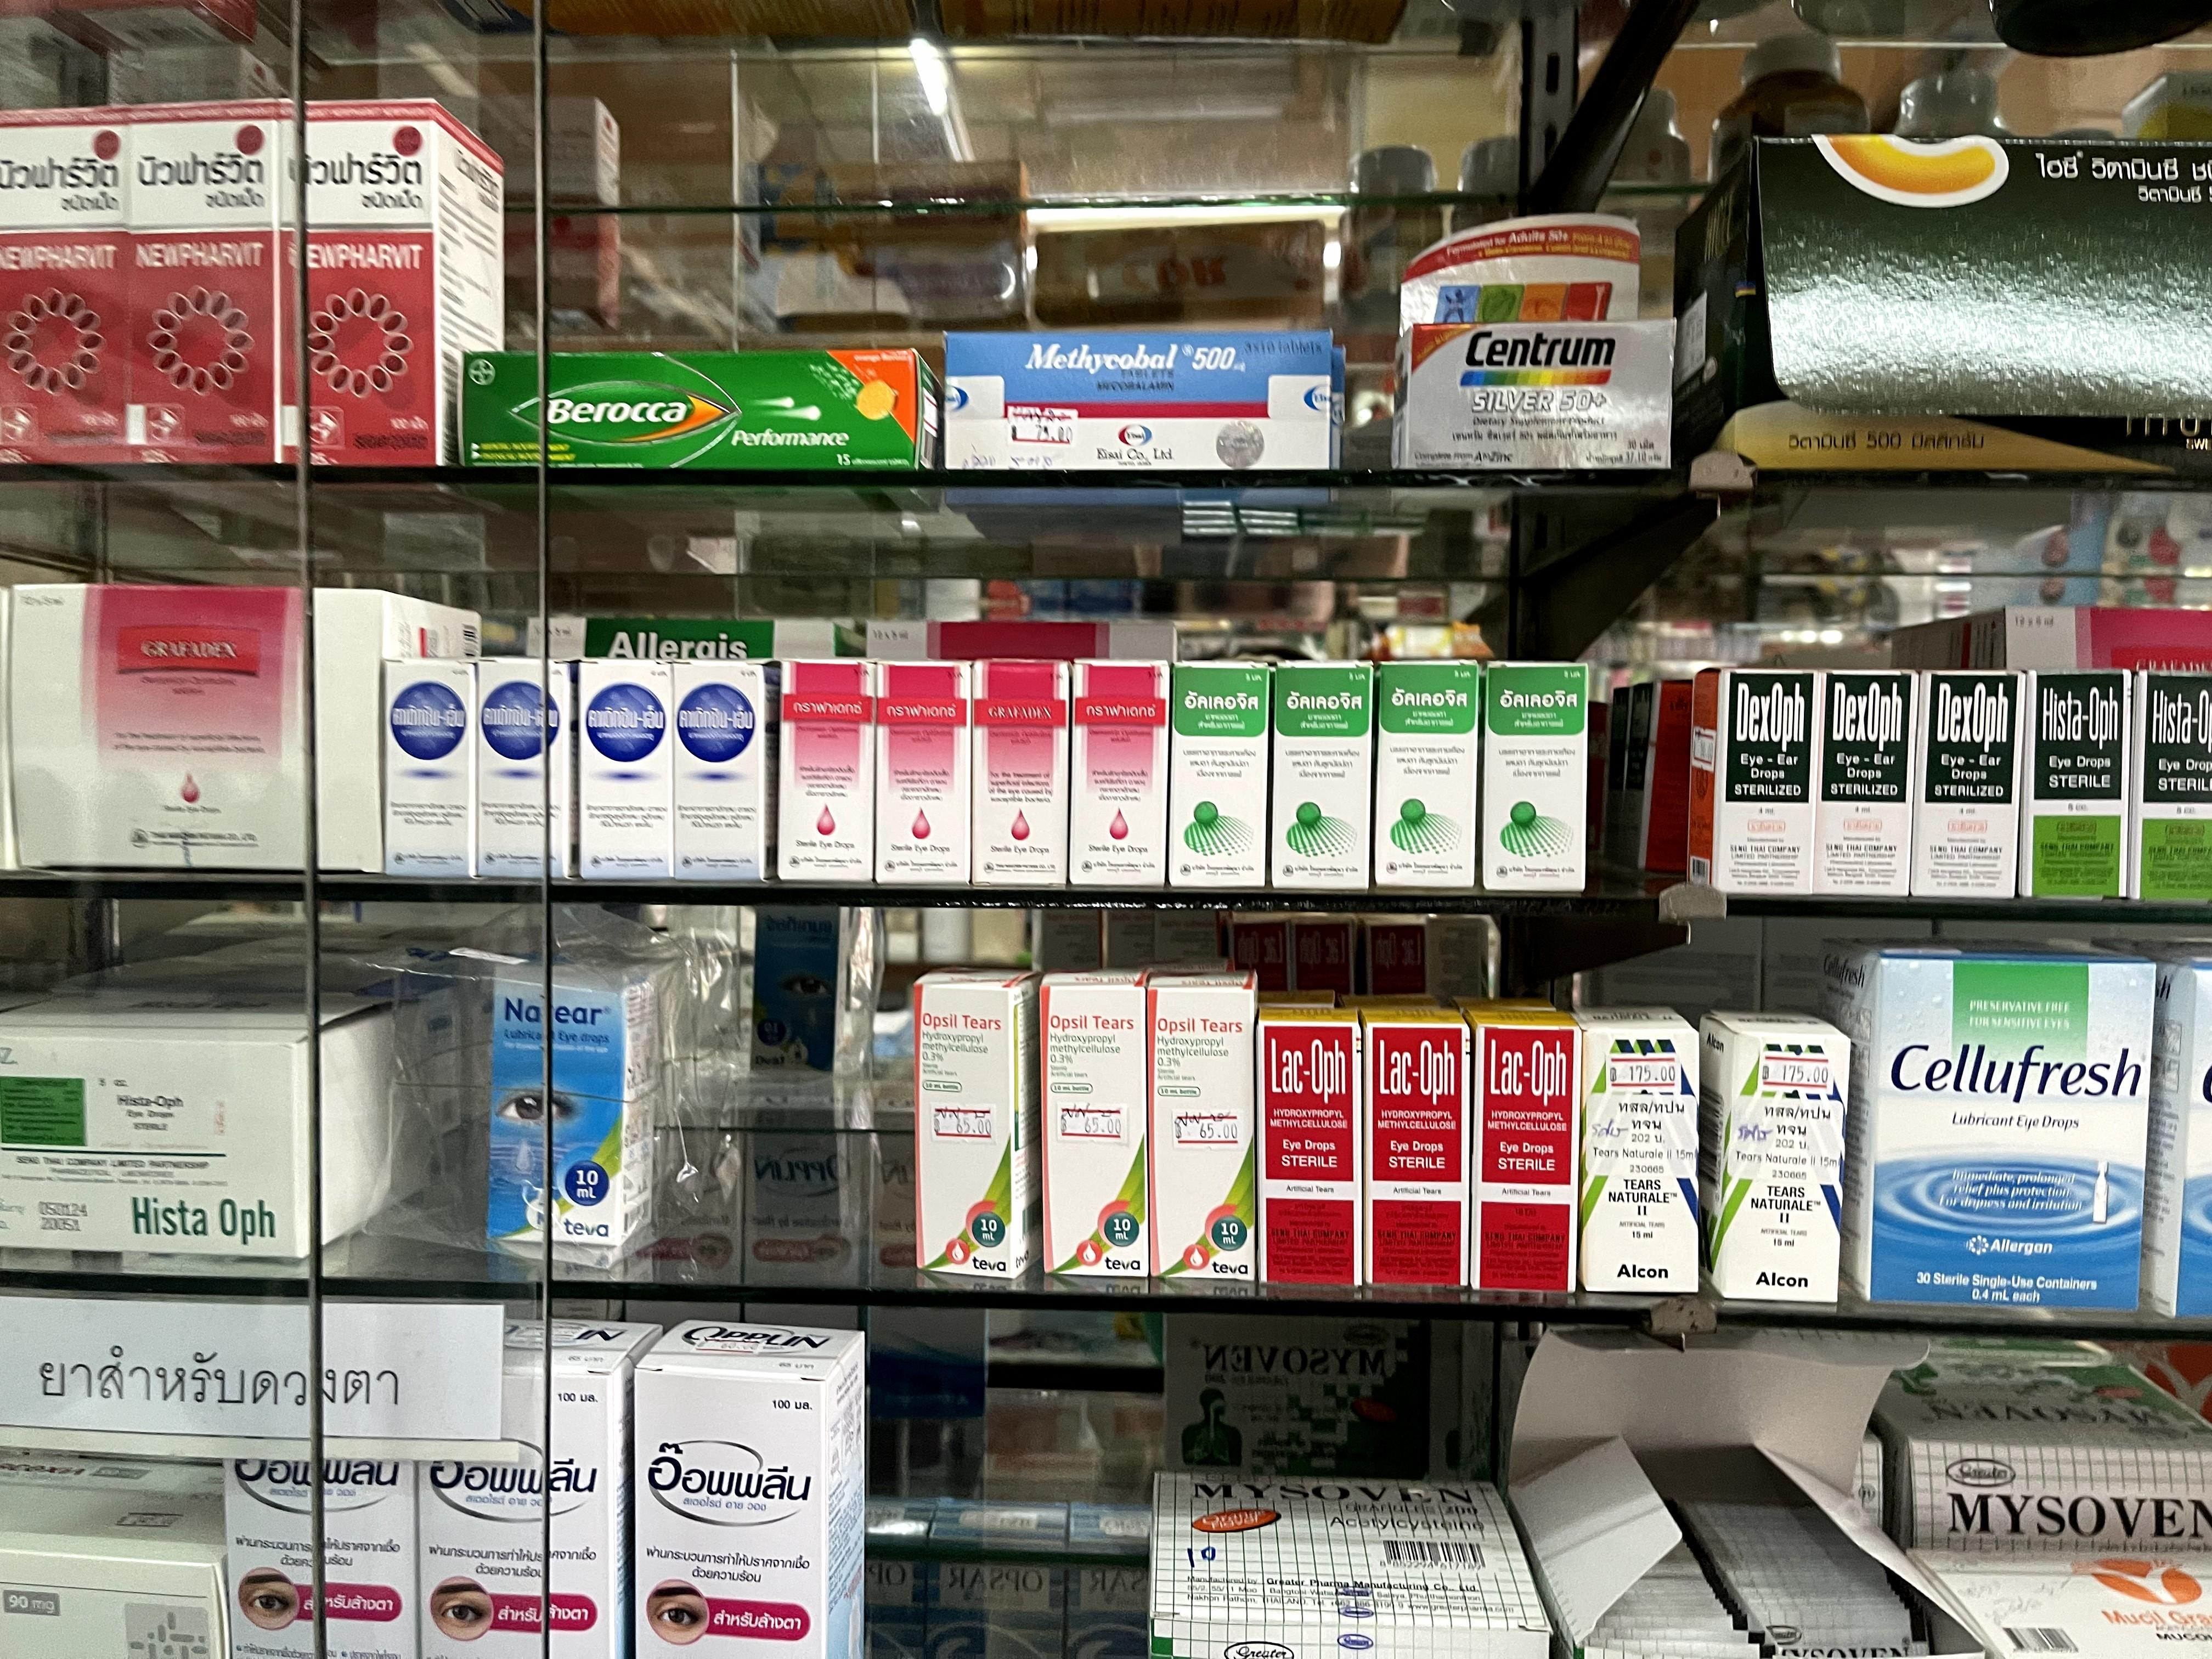Allergis: (1475, 659, 1588, 892), (1371, 662, 1477, 889), (1268, 659, 1371, 890), (1169, 662, 1270, 887)
Grafadex: (779, 657, 883, 884), (1069, 657, 1170, 889), (972, 659, 1073, 885), (878, 660, 974, 884)
Lac-Oph_Red: (1467, 1009, 1580, 1290), (1359, 1007, 1470, 1283), (1256, 1009, 1366, 1284)
Newpharvit: (279, 101, 503, 467), (131, 105, 280, 464), (0, 106, 131, 465)
Opplin: (636, 1326, 869, 1659), (420, 1335, 624, 1659), (221, 1331, 420, 1659)
